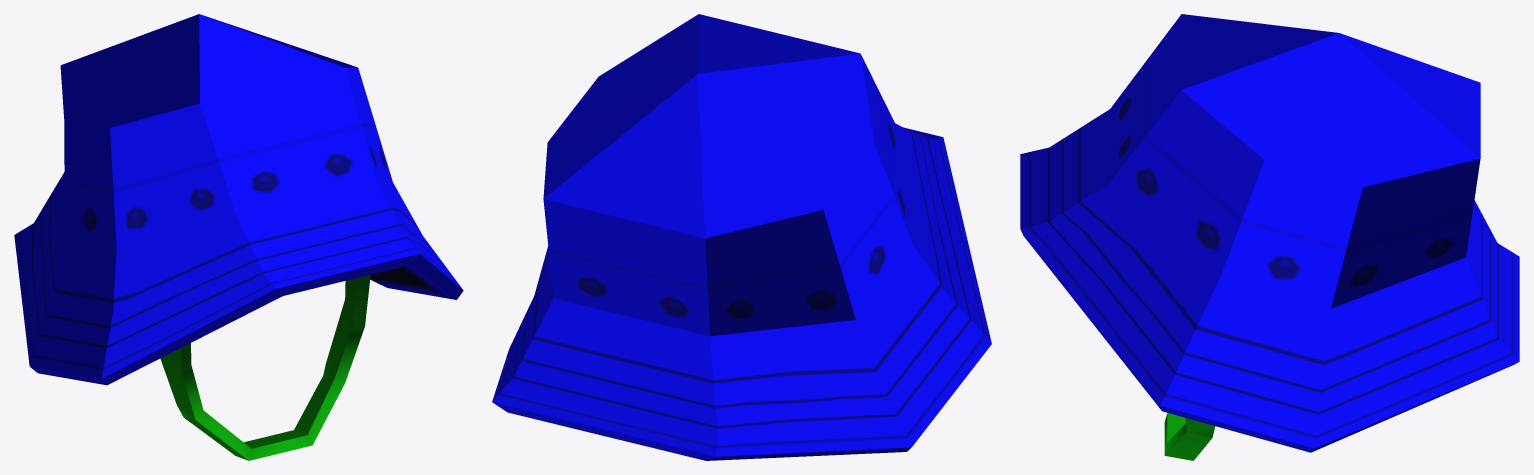
The picture shows the model from 3 angles, left to right: view 1: azimuth 30°, elevation 25°; view 2: azimuth 150°, elevation 25°; view 3: azimuth 270°, elevation 25°; orthographic projection. The views are drawn at different scales.
Visible parts, largest first — view 1: KettleHat_F; view 2: KettleHat_F; view 3: KettleHat_F.
Part boxes in pixels (x1=…): KettleHat_F: x1=14, y1=14, x2=463, y2=460; KettleHat_F: x1=492, y1=14, x2=991, y2=460; KettleHat_F: x1=1020, y1=14, x2=1519, y2=460.
Size of the model in its own units: 0.2942 by 0.2983 by 0.328.
1 material, 1 textured.
